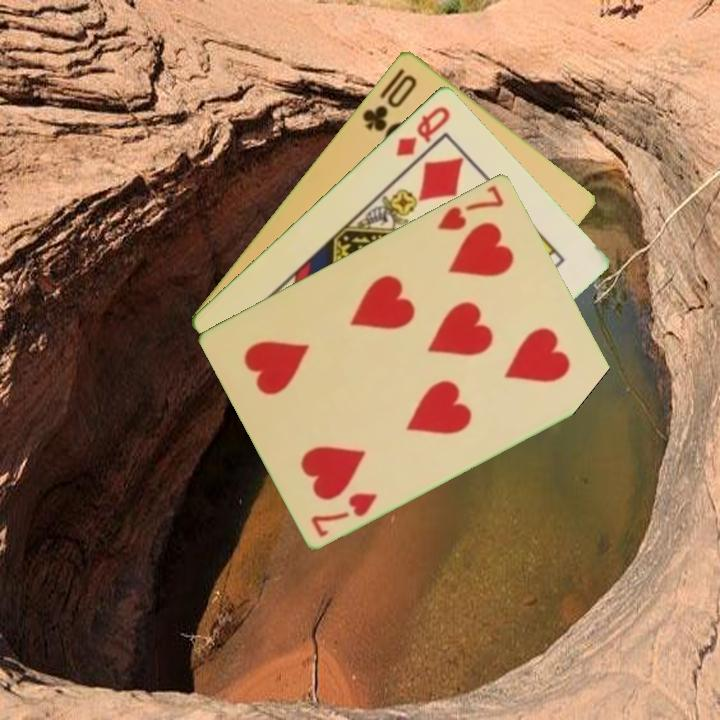10c: (358, 70, 420, 134)
7h: (433, 181, 507, 233), (307, 488, 380, 540)
Qd: (392, 102, 454, 159)
